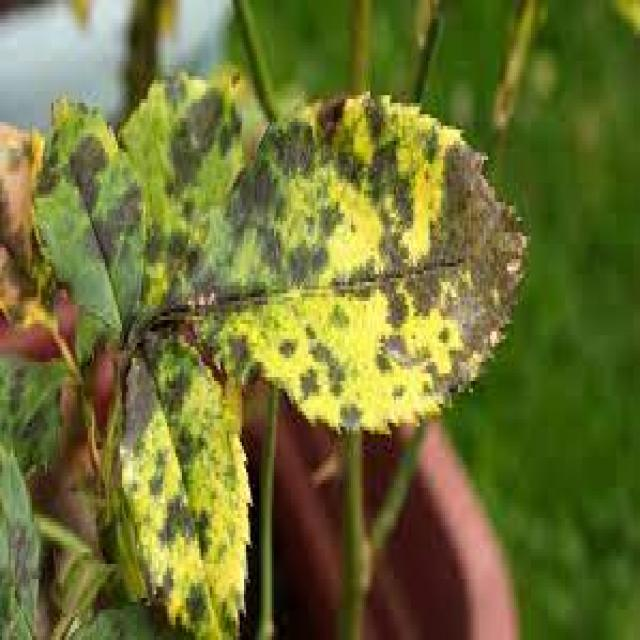black-spot: (382, 110, 568, 393)
